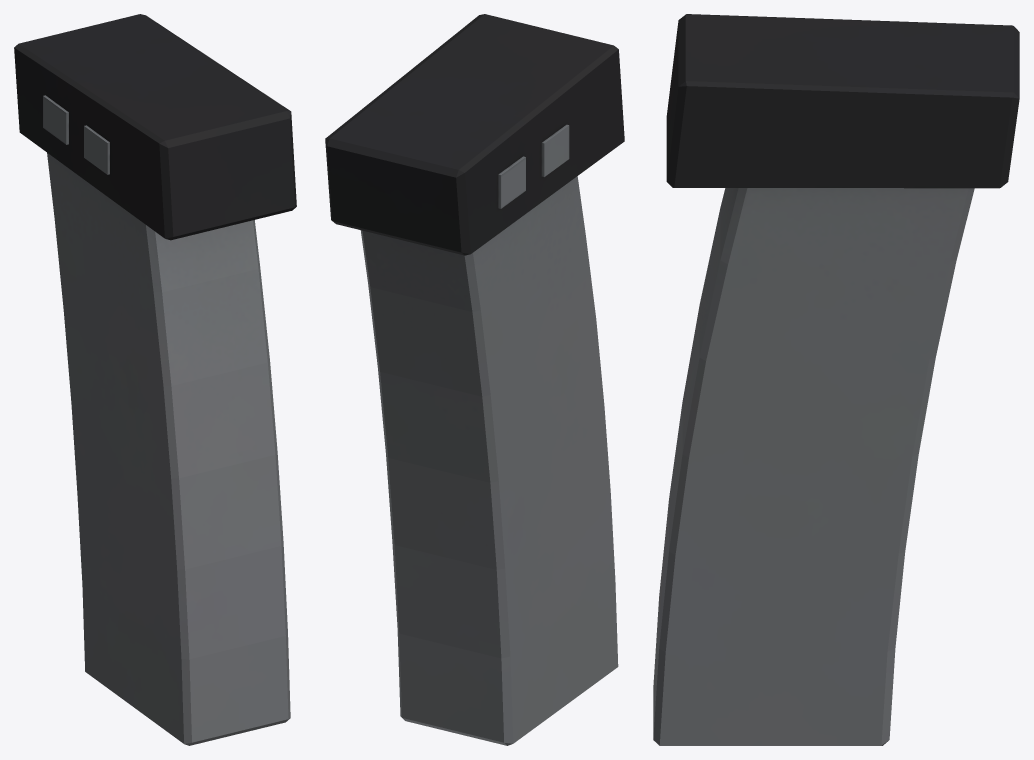
The model's file is AT_SkullMag.fbx.
3 views of the same model, side by side, from view 1: azimuth 30°, elevation 25°; view 2: azimuth 150°, elevation 25°; view 3: azimuth 270°, elevation 25° (orthographic). The views are drawn at different scales.
Parts seen in each view (by area): view 1: AT_SkullMag_export; view 2: AT_SkullMag_export; view 3: AT_SkullMag_export.
Part boxes in pixels (x1,y1,x2,y2): AT_SkullMag_export: [14, 14, 296, 745]; AT_SkullMag_export: [325, 14, 624, 745]; AT_SkullMag_export: [653, 14, 1019, 745].
Size of the model in its own units: 0.0265 by 0.0558 by 0.113.
